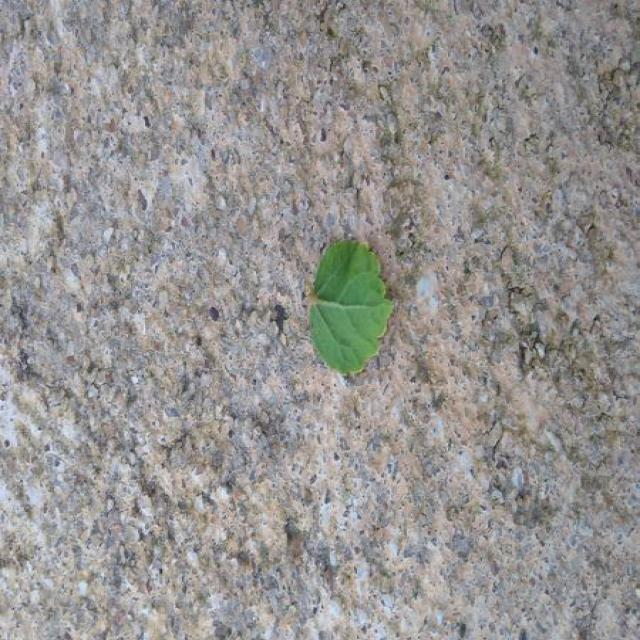leaf: (306, 238, 394, 376)
